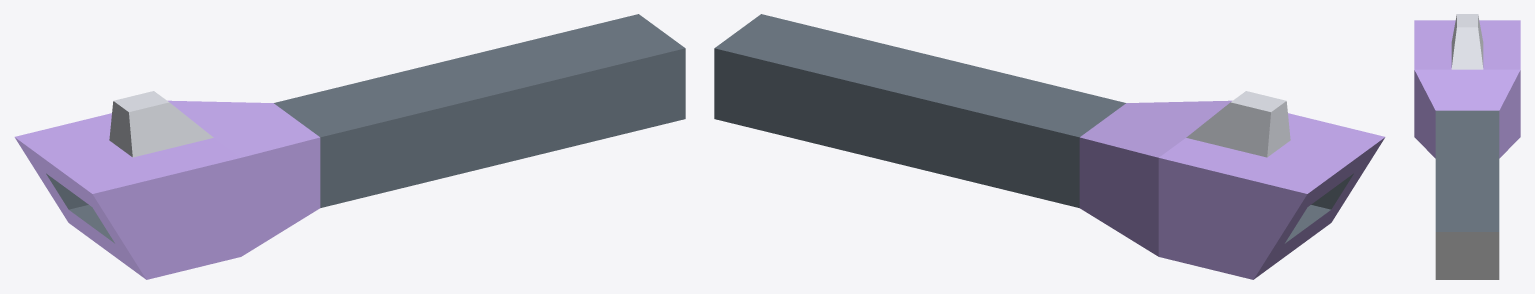
Rendered from Barrel_D.fbx.
The picture shows the model from 3 angles, left to right: view 1: azimuth 30°, elevation 25°; view 2: azimuth 150°, elevation 25°; view 3: azimuth 270°, elevation 25°; orthographic projection. The views are drawn at different scales.
Parts seen in each view (by area): view 1: polySurface365; view 2: polySurface365; view 3: polySurface365.
Boxes of the visible parts, box(x1,y1,x2,y2) form: polySurface365: box(14, 14, 685, 279); polySurface365: box(714, 14, 1385, 279); polySurface365: box(1414, 14, 1520, 279).
Bounding box in the file's own units: 45 × 10 × 10.
